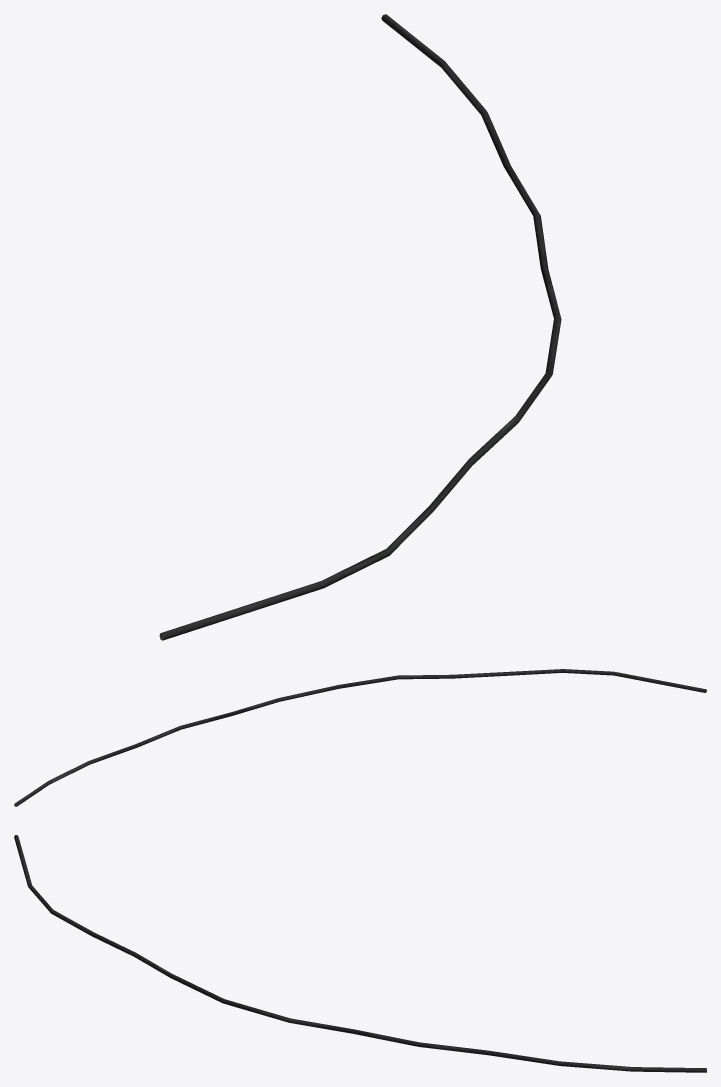
The model's file is electrical_bend_long.dae.
3 renders of one model, top to bottom at view 1: azimuth 30°, elevation 25°; view 2: azimuth 150°, elevation 25°; view 3: azimuth 270°, elevation 25°, orthographic. The views are drawn at different scales.
Parts seen in each view (by area): view 1: Mesh; view 2: Mesh; view 3: Mesh.
Part boxes in pixels (x1,y1,x2,y2): Mesh: (159, 14, 561, 640); Mesh: (14, 669, 706, 806); Mesh: (14, 835, 706, 1072).
Size of the model in its own units: 2.01 by 0.0306 by 2.51.
